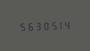five: (17, 20, 24, 31), (49, 19, 56, 30)
four: (65, 19, 72, 30)
one: (57, 19, 64, 30)
six: (25, 20, 32, 31)
three: (33, 20, 40, 31)
zero: (41, 20, 48, 30)
